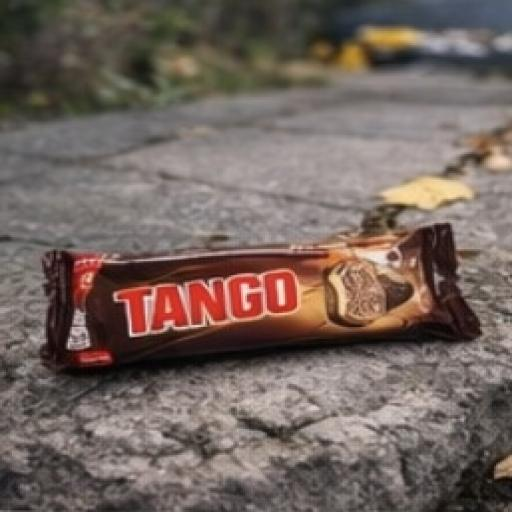tango: (45, 194, 500, 420)
